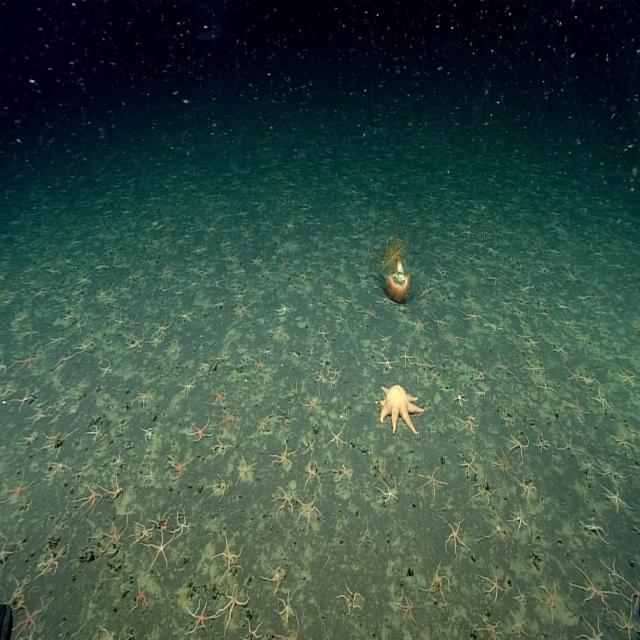brittle-stars: (573, 562, 610, 606), (96, 513, 129, 555), (16, 600, 44, 638), (217, 534, 243, 574), (424, 564, 450, 603), (148, 532, 174, 570), (442, 517, 468, 555), (219, 585, 248, 618), (298, 493, 323, 528), (4, 471, 31, 503), (602, 484, 632, 511), (188, 600, 214, 631), (581, 516, 609, 544), (539, 581, 562, 615), (619, 575, 640, 611), (614, 607, 638, 638), (40, 544, 62, 576), (480, 570, 502, 601), (418, 468, 444, 494), (396, 592, 417, 624), (263, 559, 285, 589), (340, 583, 362, 613), (509, 506, 531, 536), (273, 485, 296, 513), (486, 514, 506, 546), (507, 432, 529, 461), (186, 418, 212, 442), (577, 618, 605, 640), (599, 463, 627, 485), (272, 440, 294, 468), (16, 351, 42, 373), (558, 434, 580, 460), (277, 592, 296, 621), (474, 476, 495, 502), (170, 453, 190, 480), (80, 484, 102, 508), (455, 413, 479, 435), (332, 462, 354, 486), (29, 398, 50, 423), (209, 474, 229, 500), (495, 447, 515, 473), (237, 453, 254, 483), (218, 408, 240, 431), (132, 521, 154, 543), (43, 432, 64, 455), (611, 430, 632, 453), (131, 584, 148, 612), (104, 476, 123, 500), (175, 510, 190, 539), (0, 536, 14, 567), (243, 620, 264, 640), (256, 410, 272, 436), (481, 620, 501, 640), (328, 424, 344, 449), (379, 481, 398, 502), (301, 394, 322, 413), (511, 612, 527, 636), (460, 452, 476, 476), (443, 327, 461, 348), (568, 394, 585, 416), (86, 424, 105, 443), (595, 387, 610, 411), (179, 377, 197, 397), (525, 358, 544, 376), (126, 332, 145, 350), (215, 435, 231, 456), (520, 479, 536, 500), (453, 387, 468, 409), (157, 314, 172, 336), (51, 461, 69, 479), (134, 390, 152, 408), (167, 339, 183, 359), (286, 381, 300, 403), (359, 302, 376, 320), (378, 294, 395, 312), (459, 307, 478, 323), (412, 315, 428, 334), (210, 388, 225, 408), (418, 356, 439, 370), (305, 461, 319, 482), (77, 338, 94, 355), (620, 369, 636, 387), (552, 342, 570, 358), (516, 326, 534, 342), (302, 433, 315, 455), (534, 434, 548, 454), (399, 345, 413, 365), (378, 353, 394, 370), (375, 464, 390, 482), (566, 366, 580, 385), (514, 584, 527, 604), (50, 330, 66, 346), (95, 283, 109, 301), (21, 431, 37, 446), (140, 425, 155, 441), (487, 272, 502, 288), (432, 312, 447, 328), (555, 300, 572, 314), (577, 329, 591, 346), (334, 293, 351, 307), (127, 311, 140, 329), (497, 358, 511, 374), (275, 302, 292, 315), (474, 364, 486, 382), (149, 334, 164, 348), (273, 323, 286, 339), (314, 368, 326, 385), (161, 262, 173, 279), (330, 364, 341, 382), (428, 274, 443, 287), (537, 260, 549, 276), (298, 268, 310, 284), (255, 354, 266, 371), (583, 456, 595, 471), (464, 290, 475, 306), (113, 452, 124, 467), (518, 282, 530, 295), (318, 326, 329, 340), (328, 376, 338, 391), (430, 369, 441, 382), (106, 306, 116, 320), (501, 298, 512, 310), (448, 228, 457, 240)
